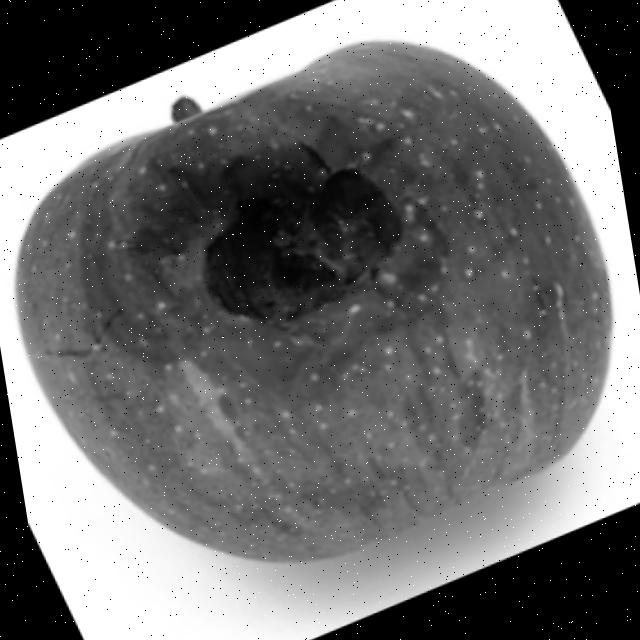Rotten: (0, 4, 640, 605)
